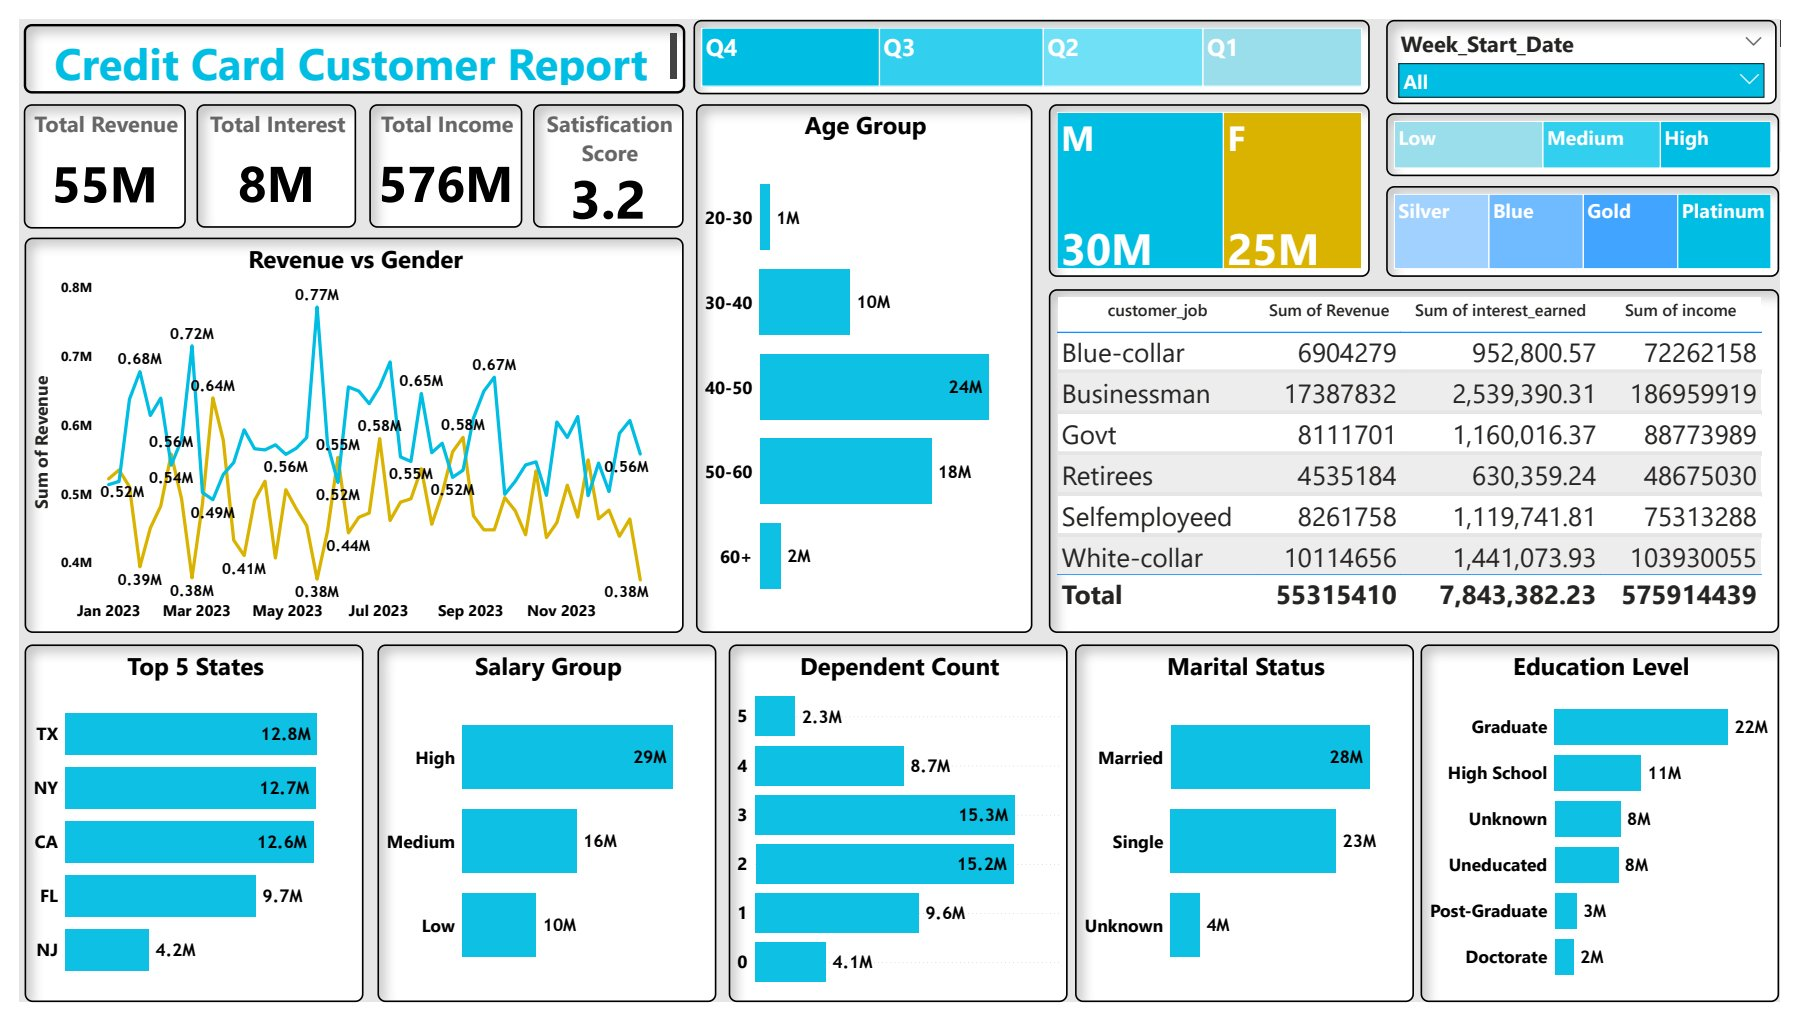

Layout of this report page (visuals, bound fields, positions):
{"tool":"powerbi","page":{"name":"Credit Card Customer Report","canvas":[2150,1200],"ordinal":1},"visuals":[{"type":"textbox","box":[5,5,807.5,85],"z":0},{"type":"barChart","title":"Salary Group","fields":{"Y":["Sum(public cc_detail.Revenue)"],"Category":["public cust_detail.IncomeGroup"]},"box":[437.1,762.9,414.3,437.1],"z":1000},{"type":"tableEx","fields":{"Values":["public cust_detail.customer_job","Sum(public cc_detail.Revenue)","Sum(public cc_detail.interest_earned)","Sum(public cust_detail.income)"]},"box":[1257.1,328.6,891.4,420],"z":2000},{"type":"card","title":"Total Revenue","fields":{"Values":["Sum(public cc_detail.Revenue)"]},"box":[5,102.5,197.5,152.5],"z":3000},{"type":"card","title":"Total Interest","fields":{"Values":["Sum(public cc_detail.interest_earned)"]},"box":[216.2,102.7,194.6,151.4],"z":4000},{"type":"card","title":"Total Income","fields":{"Values":["Sum(public cust_detail.income)"]},"box":[427,102.7,186.5,151.4],"z":5000},{"type":"card","title":"Satisfication Score","fields":{"Values":["Avg(public cust_detail.cust_satisfaction_score)"]},"box":[627,102.7,183.8,151.4],"z":6000},{"type":"slicer","fields":{"Values":["public cc_detail.week_start_date"]},"box":[1668.6,0,477.1,102.9],"z":7000},{"type":"treemap","fields":{"Group":["public cc_detail.qtr"],"Values":["Avg(public cc_detail.client_num)","select"]},"box":[822.9,0,825.7,91.4],"z":8000},{"type":"treemap","fields":{"Group":["public cc_detail.card_category"],"Values":["Avg(public cc_detail.client_num)","select"]},"box":[1668.6,202.9,480,111.4],"z":9000},{"type":"treemap","fields":{"Group":["public cust_detail.IncomeGroup"],"Values":["Sum(public cc_detail.client_num)","select"]},"box":[1668.6,114.3,480,77.1],"z":10000},{"type":"lineChart","title":"Revenue vs Gender","fields":{"Y":["Sum(public cc_detail.Revenue)"],"Series":["public cust_detail.gender"],"Category":["public cc_detail.week_start_date.Variation.Date Hierarchy.Year","public cc_detail.week_start_date.Variation.Date Hierarchy.Month","public cc_detail.week_start_date.Variation.Date Hierarchy.Day"]},"box":[5.7,265.7,805.7,482.9],"z":11000},{"type":"treemap","fields":{"Group":["public cust_detail.gender"],"Values":["Sum(public cc_detail.Revenue)"]},"box":[1257.1,102.9,391.4,211.4],"z":12000},{"type":"barChart","title":"Age Group","fields":{"Y":["Sum(public cc_detail.Revenue)"],"Category":["public cust_detail.AgeGroup"]},"box":[825.7,102.9,411.4,645.7],"z":13000},{"type":"barChart","title":"Dependent Count","fields":{"Y":["Sum(public cc_detail.Revenue)"],"Category":["public cust_detail.dependent_count"]},"box":[865.7,762.9,414.3,437.1],"z":14000},{"type":"barChart","title":"Education Level","fields":{"Y":["Sum(public cc_detail.Revenue)"],"Category":["public cust_detail.education_level"]},"box":[1711.4,762.9,437.1,437.1],"z":15000},{"type":"barChart","title":"Top 5 States","fields":{"Y":["Sum(public cc_detail.Revenue)"],"Category":["public cust_detail.state_cd"]},"box":[5.7,762.9,414.3,437.1],"z":16000},{"type":"barChart","title":"Marital Status","fields":{"Y":["Sum(public cc_detail.Revenue)"],"Category":["public cust_detail.marital_status"]},"box":[1288.6,762.9,414.3,437.1],"z":17000}]}

Visuals, with their boxes in screenshot pixels (x1, y1, x2, y2), scaled from the page's 2150x1200 canvas onto the 1800x1022 screenshot:
textbox: [left=4, top=4, right=680, bottom=77]
"Salary Group" barChart: [left=366, top=650, right=713, bottom=1021]
tableEx - public cust_detail.customer_job x Sum(public cc_detail.Revenue): [left=1052, top=280, right=1799, bottom=638]
"Total Revenue" card: [left=4, top=87, right=170, bottom=217]
"Total Interest" card: [left=181, top=87, right=344, bottom=216]
"Total Income" card: [left=357, top=87, right=514, bottom=216]
"Satisfication Score" card: [left=525, top=87, right=679, bottom=216]
slicer - public cc_detail.week_start_date: [left=1397, top=0, right=1796, bottom=88]
treemap - public cc_detail.qtr x Avg(public cc_detail.client_num): [left=689, top=0, right=1380, bottom=78]
treemap - public cc_detail.card_category x Avg(public cc_detail.client_num): [left=1397, top=173, right=1799, bottom=268]
treemap - public cust_detail.IncomeGroup x Sum(public cc_detail.client_num): [left=1397, top=97, right=1799, bottom=163]
"Revenue vs Gender" lineChart: [left=5, top=226, right=679, bottom=638]
treemap - public cust_detail.gender x Sum(public cc_detail.Revenue): [left=1052, top=88, right=1380, bottom=268]
"Age Group" barChart: [left=691, top=88, right=1036, bottom=638]
"Dependent Count" barChart: [left=725, top=650, right=1072, bottom=1021]
"Education Level" barChart: [left=1433, top=650, right=1799, bottom=1021]
"Top 5 States" barChart: [left=5, top=650, right=352, bottom=1021]
"Marital Status" barChart: [left=1079, top=650, right=1426, bottom=1021]
